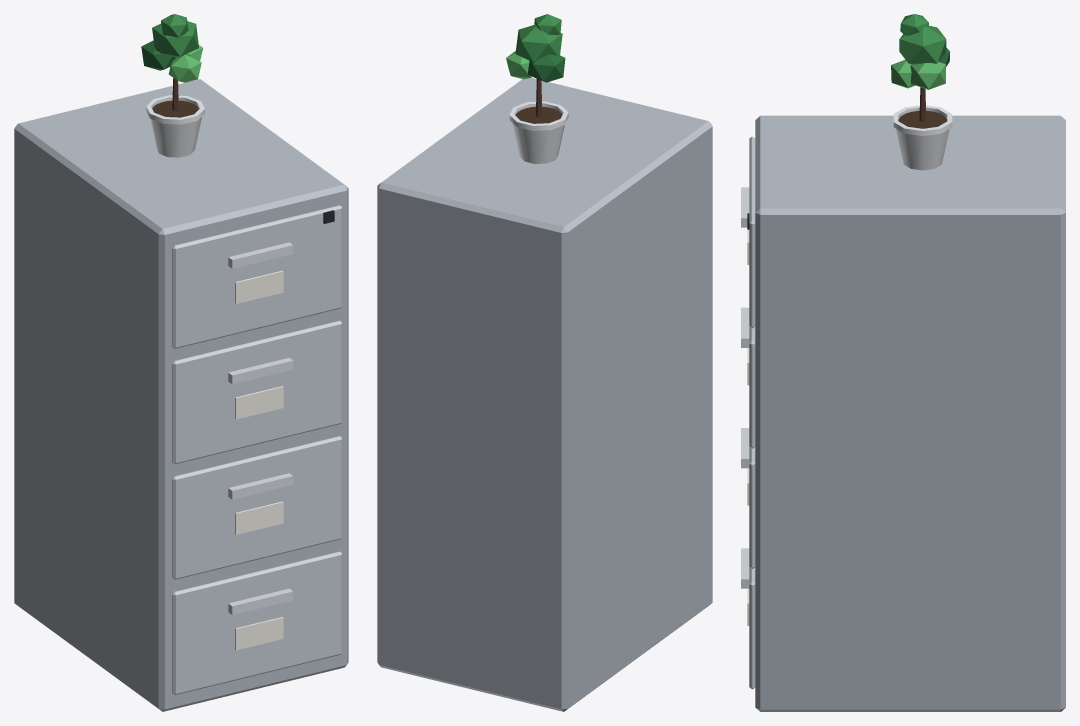
File: filing_cabinet.glb
3 views of the same model, side by side, from view 1: azimuth 30°, elevation 25°; view 2: azimuth 150°, elevation 25°; view 3: azimuth 270°, elevation 25° (orthographic). The views are drawn at different scales.
Visible parts, largest first — view 1: filing_cabinet; view 2: filing_cabinet; view 3: filing_cabinet.
Part boxes in pixels (left/top/right/bottom): filing_cabinet: left=14, top=14, right=348, bottom=711; filing_cabinet: left=377, top=14, right=712, bottom=711; filing_cabinet: left=741, top=14, right=1065, bottom=711.
Bounding box in the file's own units: 0.56 × 1.75 × 0.795.
